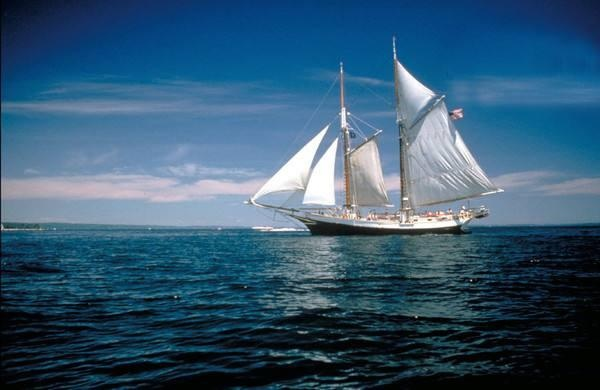fanchuan: (241, 37, 504, 237)
